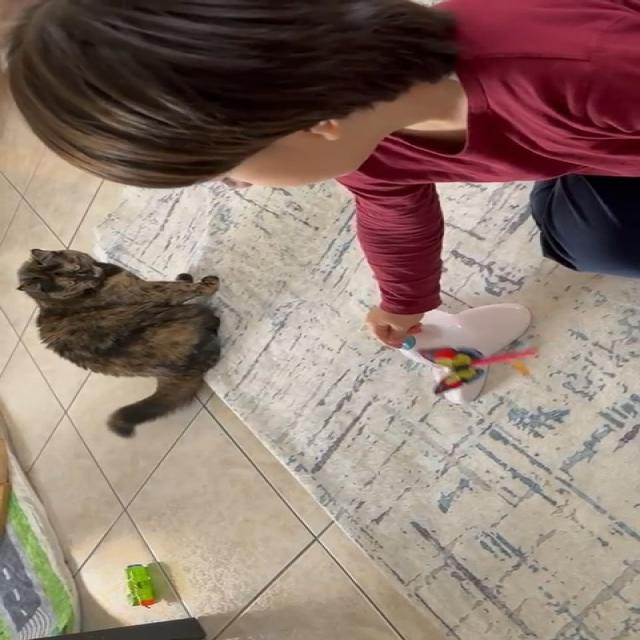authorized: (14, 247, 222, 438)
